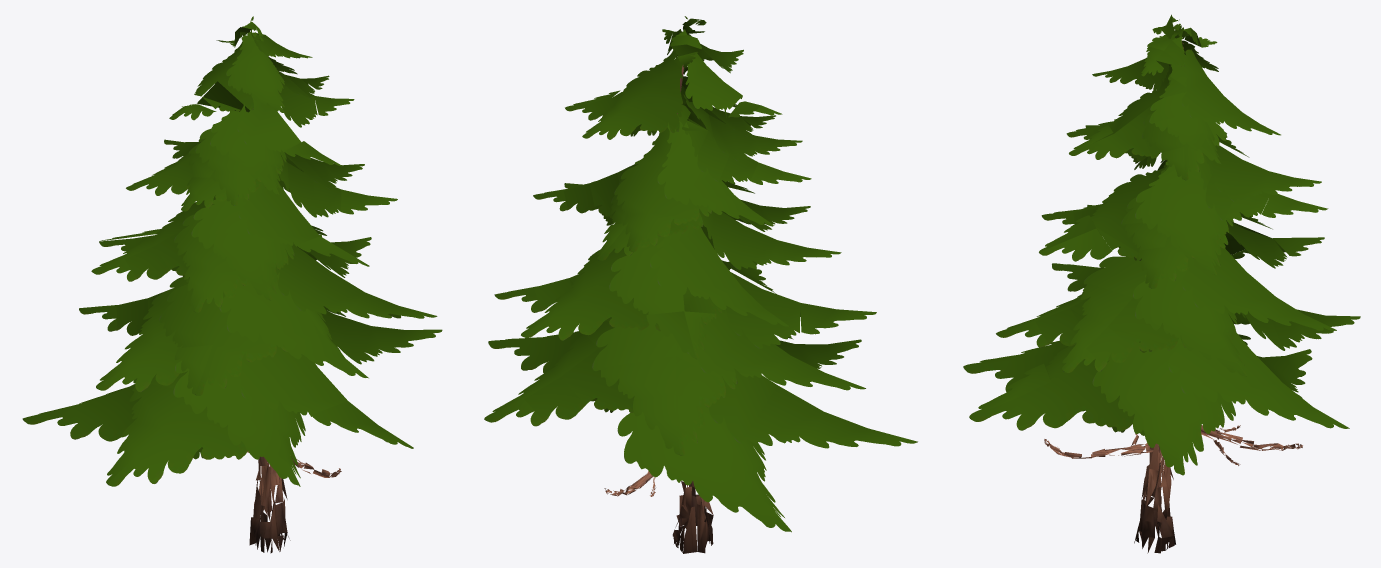
Rendered from cemara-hijau.glb.
The picture shows the model from 3 angles, left to right: view 1: azimuth 30°, elevation 25°; view 2: azimuth 150°, elevation 25°; view 3: azimuth 270°, elevation 25°; orthographic projection. The views are drawn at different scales.
Visible parts, largest first — view 1: Pine_2; view 2: Pine_2; view 3: Pine_2.
Boxes of the visible parts, x1,y1,x2,y2 form: Pine_2: (22, 16, 442, 553); Pine_2: (484, 16, 917, 553); Pine_2: (963, 14, 1360, 553).
Bounding box in the file's own units: 10.87 × 14.02 × 9.91.
Materials: 2 (2 with a texture image).
